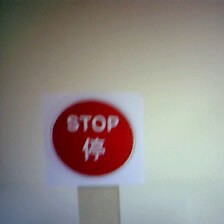stop: (48, 93, 141, 188)
